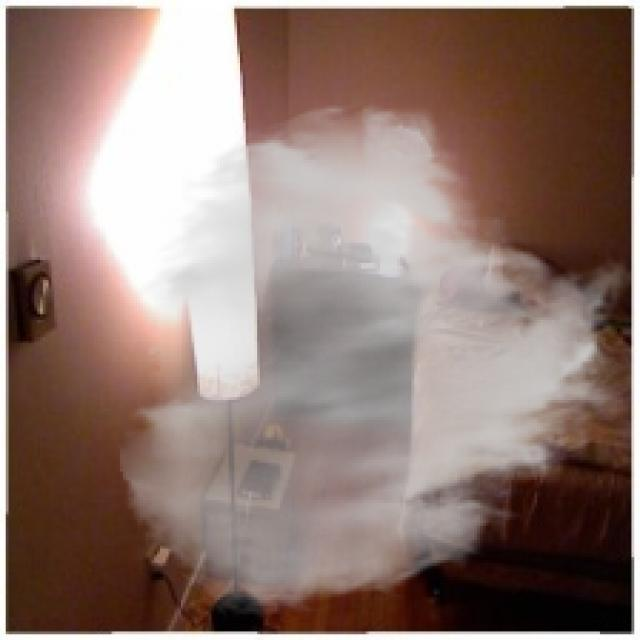Smoke: (114, 100, 637, 620)
